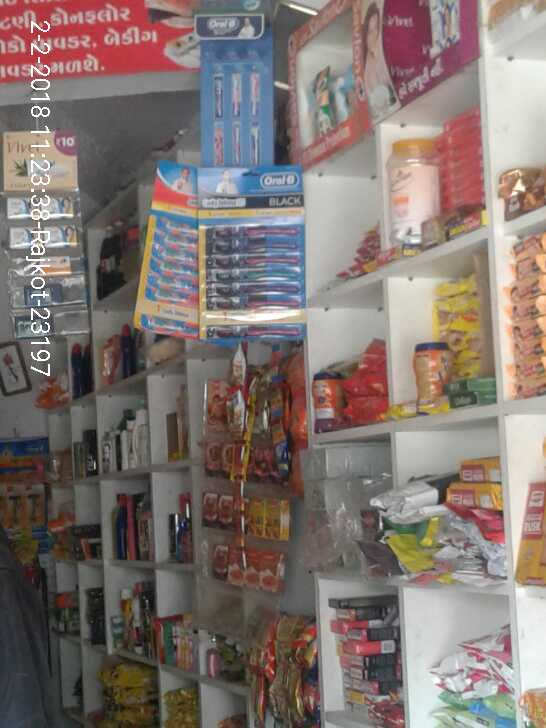oralb: (205, 226, 303, 308)
